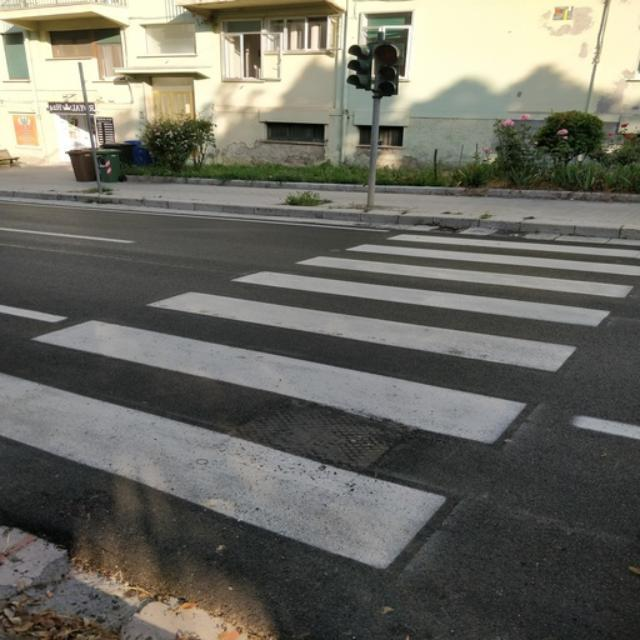sidewalk: (0, 230, 640, 576)
